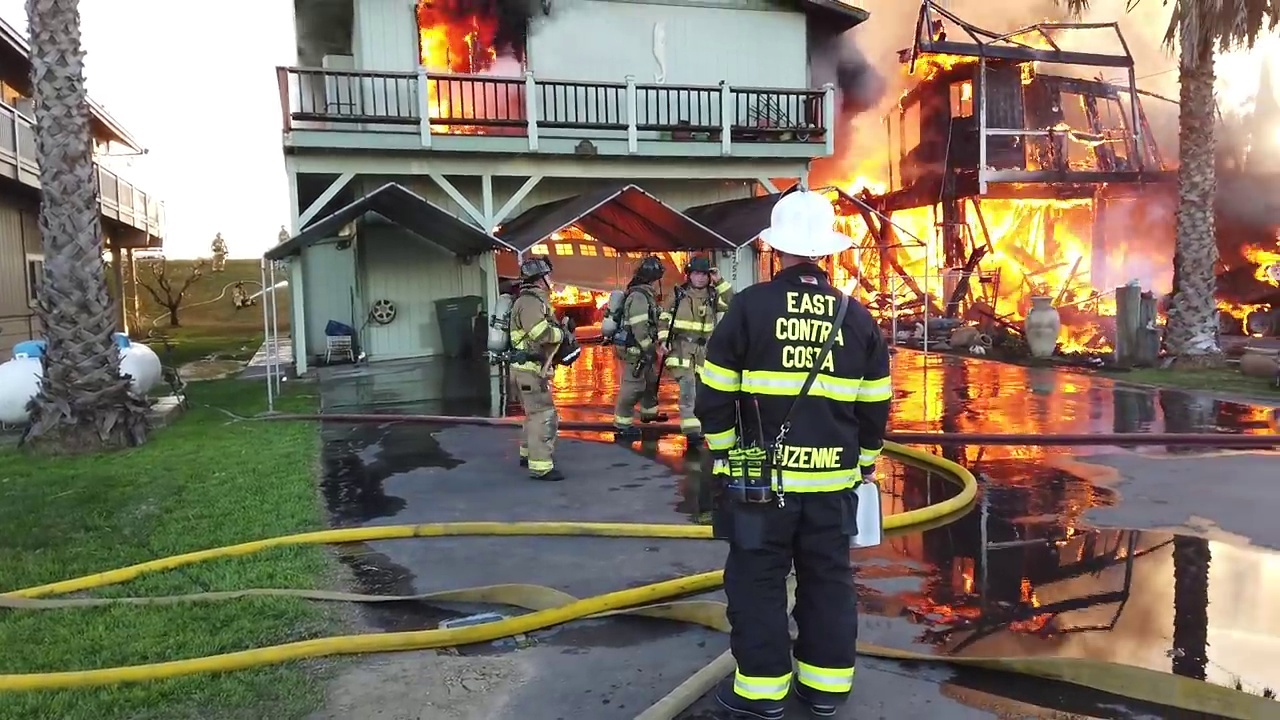fire: (966, 195, 1108, 350), (1210, 1, 1280, 239), (820, 166, 902, 294), (416, 5, 500, 127), (1224, 215, 1280, 332), (1015, 27, 1063, 88), (900, 209, 943, 277), (909, 47, 983, 77), (553, 281, 610, 311), (1059, 123, 1104, 149), (952, 78, 978, 108), (600, 243, 619, 264), (579, 240, 597, 260), (554, 240, 576, 256), (531, 243, 553, 253)
smoke: (1123, 3, 1189, 157), (1096, 190, 1175, 289), (482, 1, 565, 69), (810, 33, 885, 102), (944, 1, 1015, 45)
